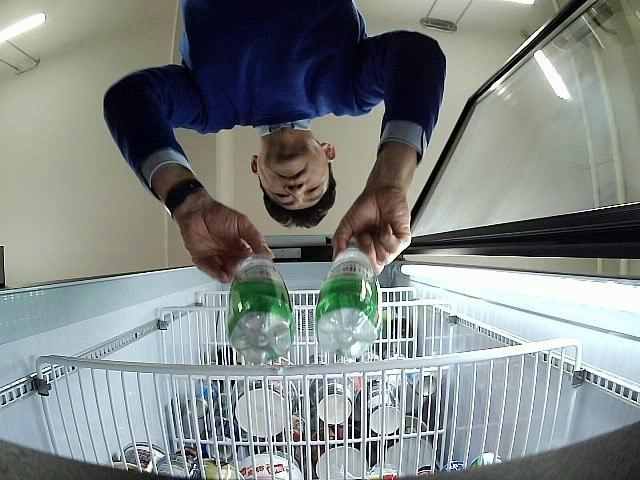18_trevi: (227, 255, 294, 365), (318, 247, 382, 358)
